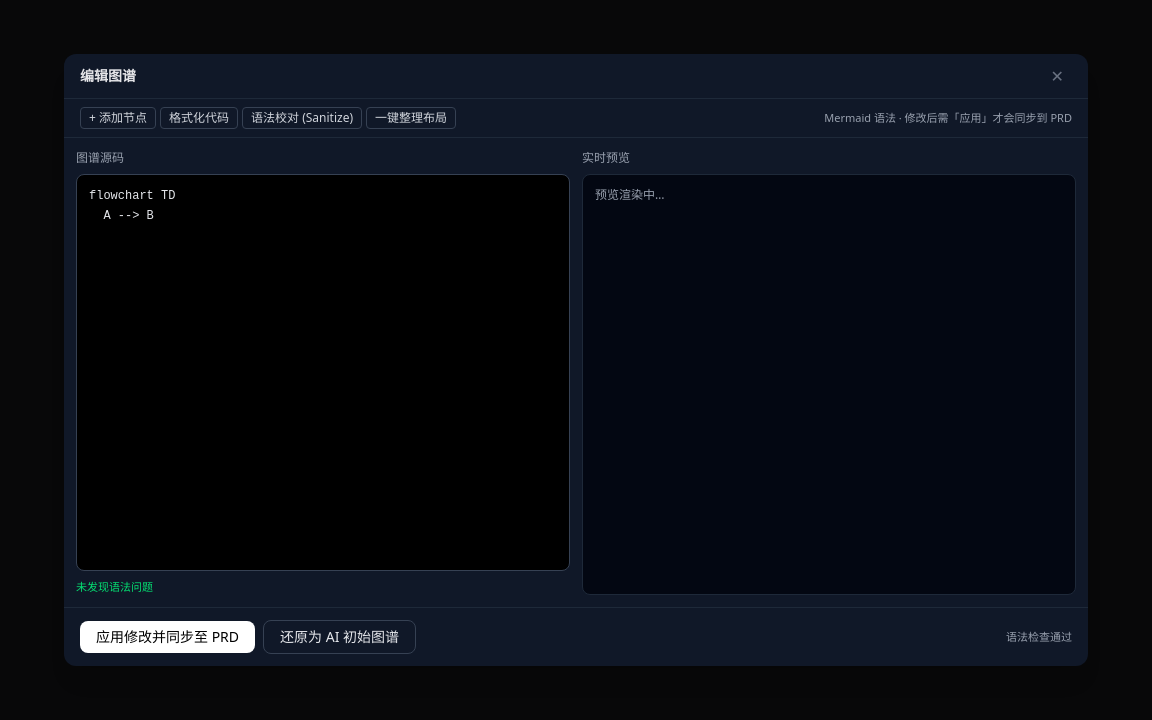
it: MermaidEditorModal W27：语法校对与布局整理 › 干净代码 → 提示「语法已规范，无需修补」且源码不变
Click the button "语法校对 (Sanitize)" at [302, 118], box [242,107,362,129]
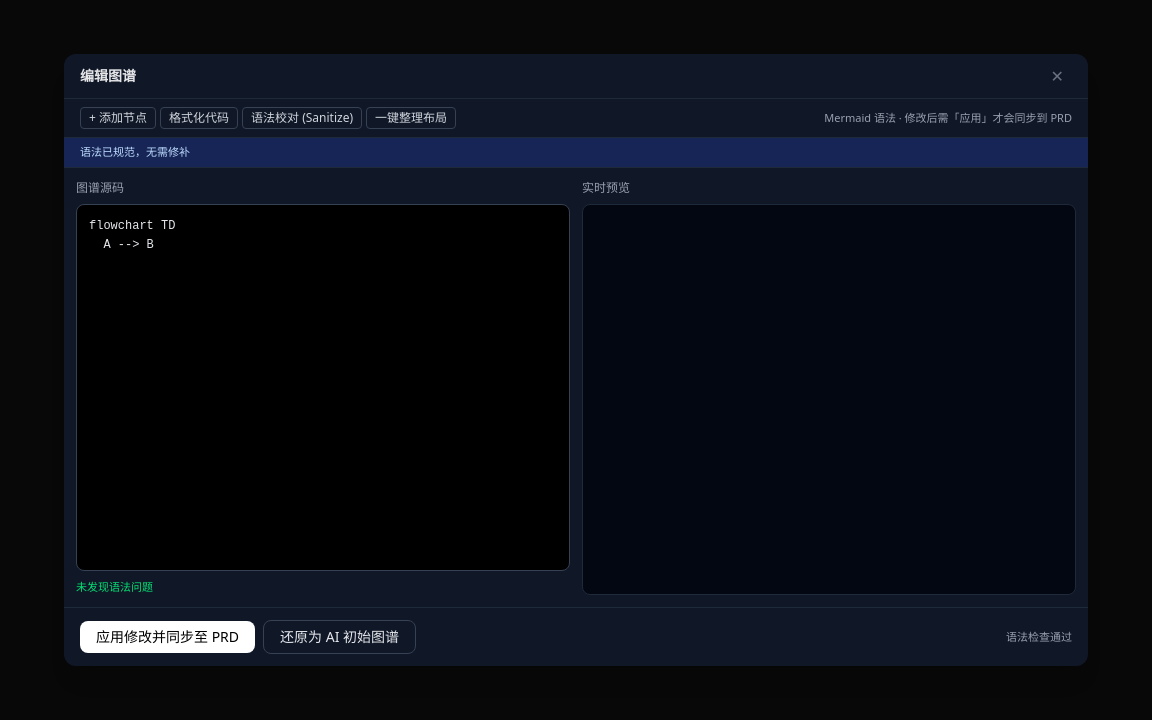
expect the text "语法已规范，无需修补" is shown: met, box [64,138,1088,168]
